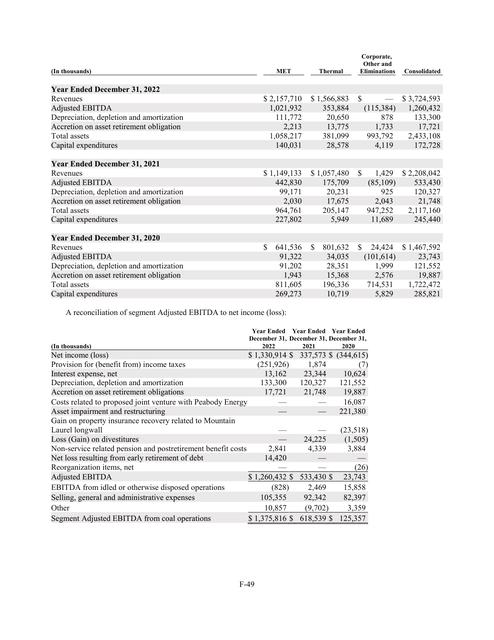box: (51, 52, 444, 301), (50, 327, 370, 528)
